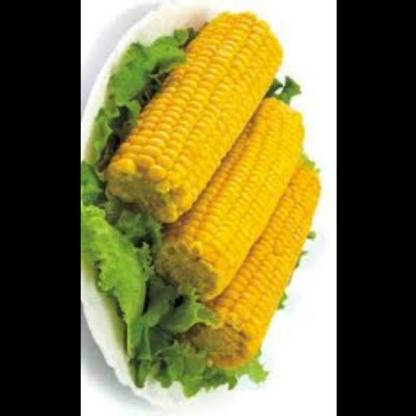corn: (103, 11, 287, 230), (154, 92, 306, 302), (186, 166, 322, 370)
salad: (81, 166, 216, 358), (86, 1, 203, 168), (123, 333, 281, 398)
